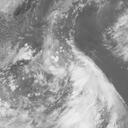cyclone: (49, 45, 110, 112)
